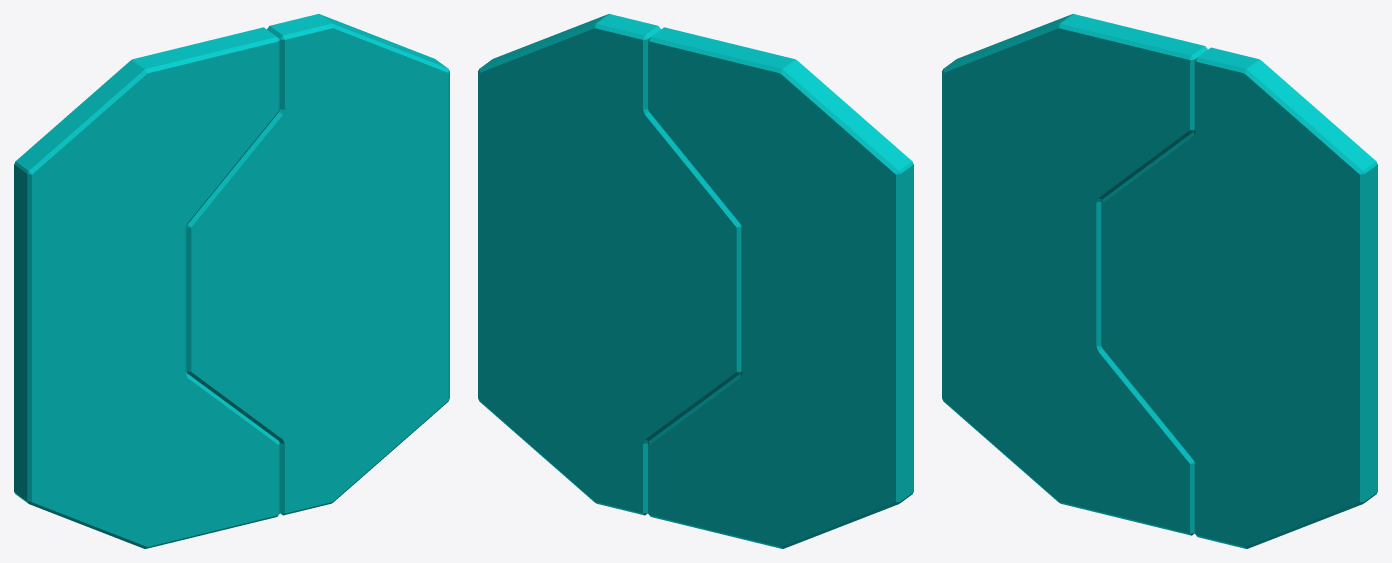
File: Door.obj
3 renders of one model, left to right at view 1: azimuth 30°, elevation 25°; view 2: azimuth 150°, elevation 25°; view 3: azimuth 330°, elevation 25°, orthographic.
Visible parts, largest first — view 1: object2, object1; view 2: object2, object1; view 3: object1, object2.
Part boxes in pixels (x1=…): object2: x1=14, y1=27, x2=279, y2=548; object1: x1=186, y1=14, x2=449, y2=515; object2: x1=648, y1=27, x2=913, y2=548; object1: x1=478, y1=14, x2=741, y2=515; object1: x1=1101, y1=47, x2=1377, y2=548; object2: x1=942, y1=14, x2=1207, y2=535.
Bounding box in the file's own units: 70 × 76 × 4.81.
